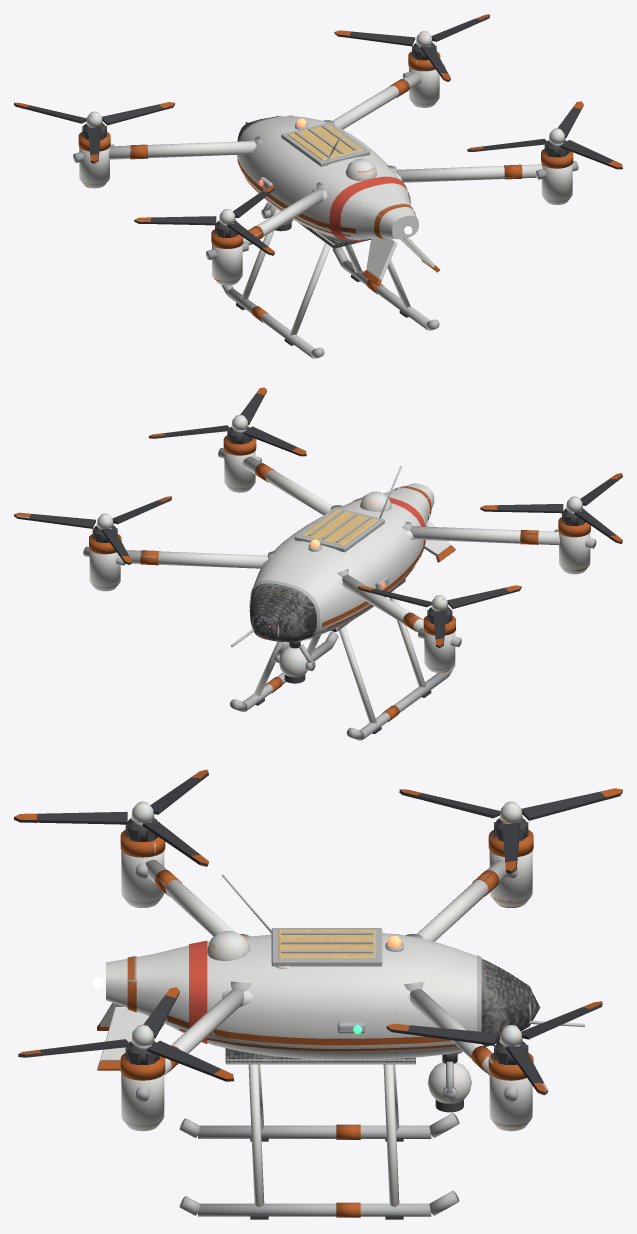
Rendered from scout_drone.glb.
3 views of the same model, one above another, from view 1: azimuth 30°, elevation 25°; view 2: azimuth 150°, elevation 25°; view 3: azimuth 270°, elevation 25° (orthographic). The views are drawn at different scales.
Visible parts, largest first — view 1: Body, Skid, Arm0, Arm3, Tilt3, Tilt2, Rotor1, Rotor2, Rotor0, Rotor3, Tilt0, Tilt1 (+2 smaller); view 2: Body, Skid, Arm2, Arm1, Tilt2, Rotor1, Tilt3, Rotor2, Rotor0, Tilt1, Rotor3, Tilt0 (+3 smaller); view 3: Body, Skid, Tilt3, Rotor1, Rotor2, Rotor0, Rotor3, Tilt1, Tilt2, Tilt0, Arm0, Arm2 (+3 smaller).
Boxes of the visible parts, bbox=[...] form: Body: bbox=[237, 115, 439, 286]; Skid: bbox=[221, 208, 439, 358]; Arm0: bbox=[109, 136, 262, 159]; Arm3: bbox=[387, 164, 542, 182]; Tilt3: bbox=[536, 140, 578, 204]; Tilt2: bbox=[206, 221, 248, 285]; Rotor1: bbox=[334, 14, 489, 81]; Rotor2: bbox=[134, 185, 274, 255]; Rotor0: bbox=[14, 102, 174, 163]; Rotor3: bbox=[467, 101, 622, 169]; Tilt0: bbox=[73, 123, 114, 188]; Tilt1: bbox=[402, 43, 445, 107]; Body: bbox=[231, 466, 455, 665]; Skid: bbox=[230, 590, 455, 740]; Arm2: bbox=[402, 521, 559, 545]; Arm1: bbox=[126, 550, 275, 568]; Tilt2: bbox=[554, 508, 596, 574]; Rotor1: bbox=[14, 496, 171, 564]; Tilt3: bbox=[218, 427, 261, 492]; Rotor2: bbox=[480, 473, 622, 543]; Rotor0: bbox=[358, 585, 521, 647]; Tilt1: bbox=[83, 525, 125, 591]; Rotor3: bbox=[148, 387, 306, 456]; Tilt0: bbox=[418, 607, 461, 672]; Body: bbox=[97, 874, 584, 1093]; Skid: bbox=[179, 1064, 459, 1219]; Tilt3: bbox=[120, 1041, 165, 1131]; Rotor1: bbox=[386, 1001, 602, 1095]; Rotor2: bbox=[14, 769, 208, 866]; Rotor0: bbox=[399, 788, 622, 873]; Rotor3: bbox=[18, 987, 233, 1081]; Tilt1: bbox=[488, 1041, 533, 1131]; Tilt2: bbox=[120, 818, 165, 907]; Tilt0: bbox=[488, 818, 533, 907]; Arm0: bbox=[405, 859, 506, 941]; Arm2: bbox=[145, 859, 250, 936].
Size of the model in its own units: 2.49 by 1.04 by 1.98.
Materials: 14 (4 with a texture image).
